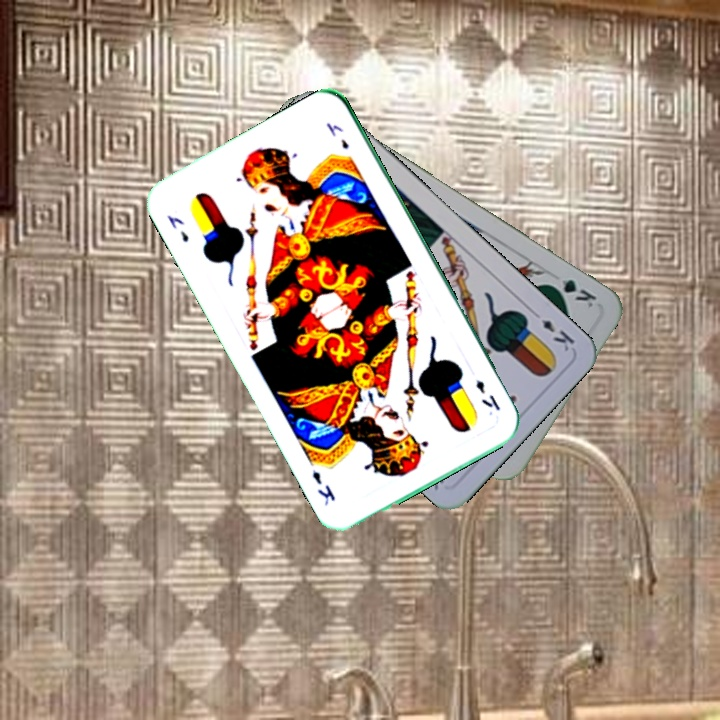EK: (527, 306, 577, 354), (471, 376, 503, 414), (163, 210, 192, 245)
GK: (543, 274, 600, 311)
